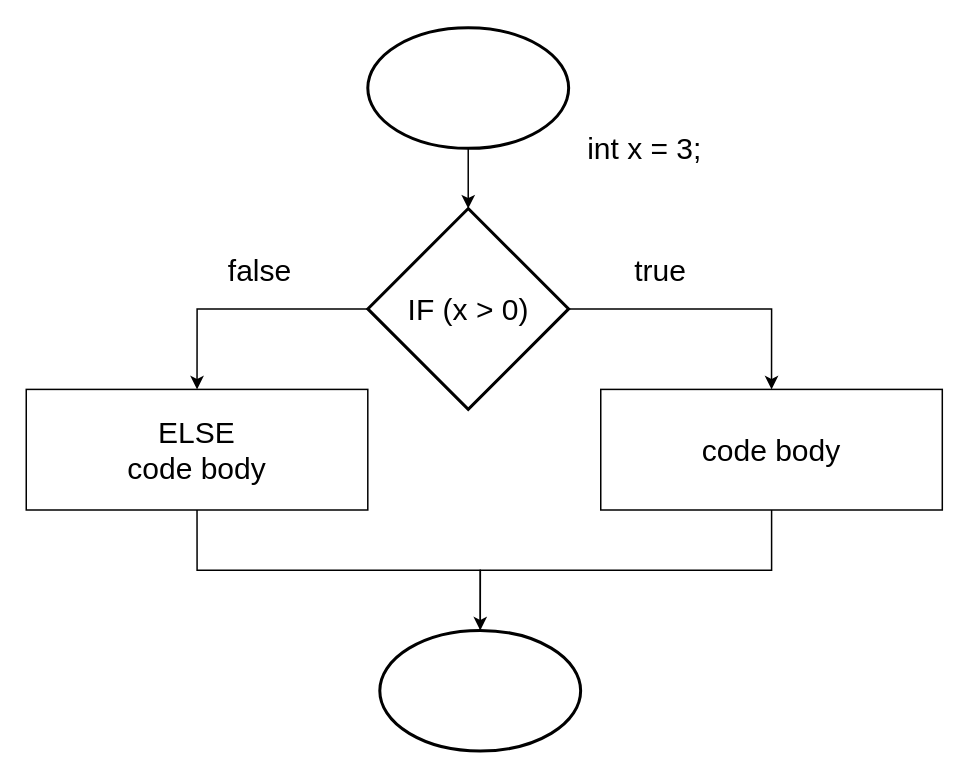
The diagram is 969 pixels wide and 779 high, and some of its shapes have lost their labels. Here are the shapes that lost their labels. From the top down, the centre of each, then its label:
At pixel 467 87: "START".
At pixel 479 690: "END".
